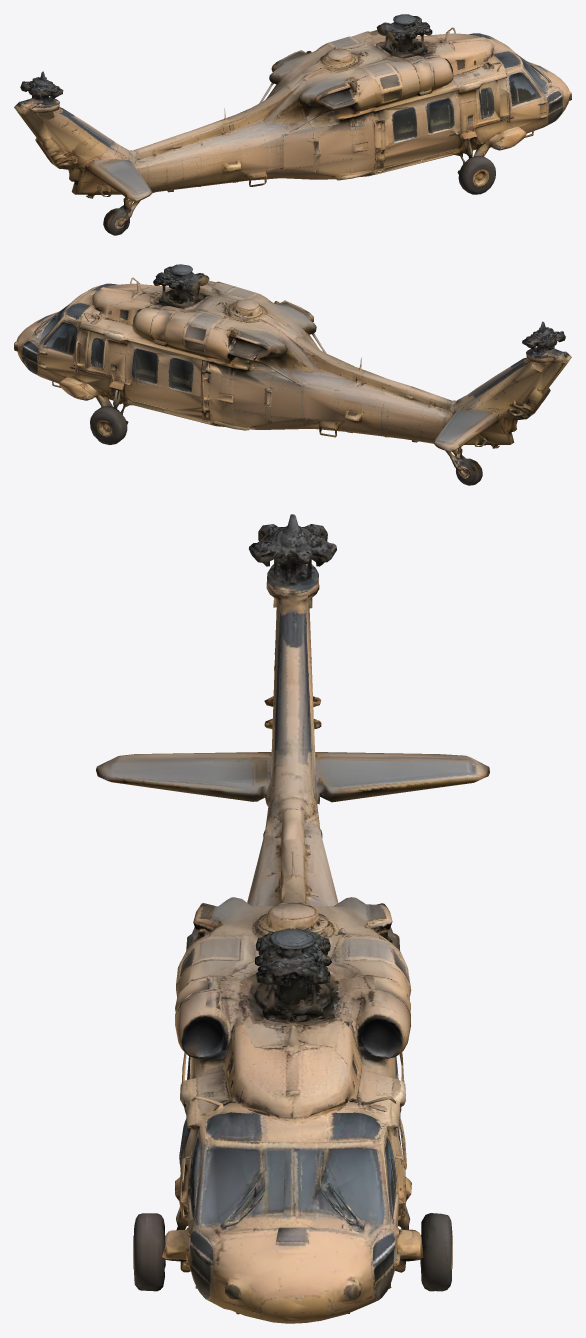
Rendered from heli_blackhawk.glb.
3 views of the same model, one above another, from view 1: azimuth 30°, elevation 25°; view 2: azimuth 150°, elevation 25°; view 3: azimuth 270°, elevation 25° (orthographic). The views are drawn at different scales.
Parts seen in each view (by area): view 1: geometry_0; view 2: geometry_0; view 3: geometry_0.
Part boxes in pixels (x1,y1,x2,y2): geometry_0: (14, 14, 571, 235); geometry_0: (14, 264, 571, 485); geometry_0: (96, 514, 489, 1323).
Size of the model in its own units: 1.17 by 0.3932 by 0.3641.
1 material, 1 textured.
